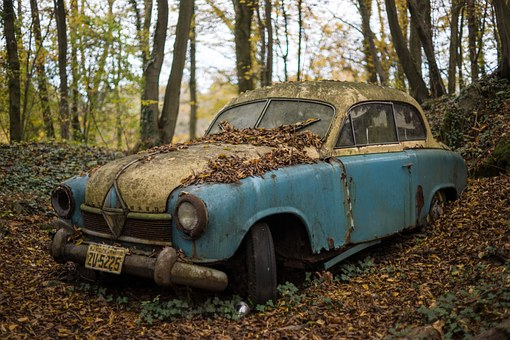rust: (50, 236, 232, 293), (81, 205, 174, 248), (275, 213, 320, 270), (334, 163, 362, 246), (174, 193, 211, 239), (48, 181, 79, 219), (411, 183, 430, 234)
